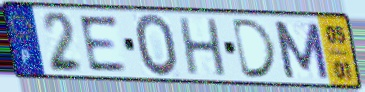2: (39, 10, 86, 74)
D: (230, 17, 281, 80)
E: (76, 14, 130, 73)
H: (176, 16, 230, 79)
M: (270, 19, 332, 82)
O: (133, 12, 181, 79)
